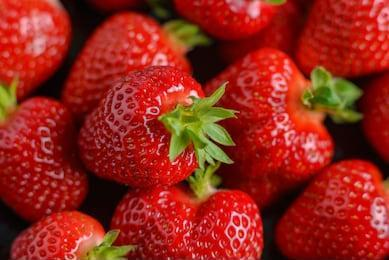Fresa: (74, 62, 215, 196), (63, 7, 198, 118), (272, 148, 389, 260), (1, 93, 96, 226)
